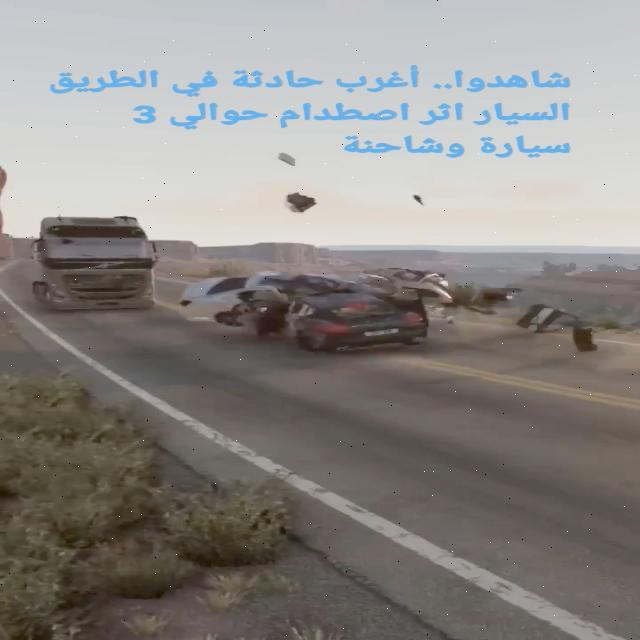accident: (146, 262, 534, 354)
